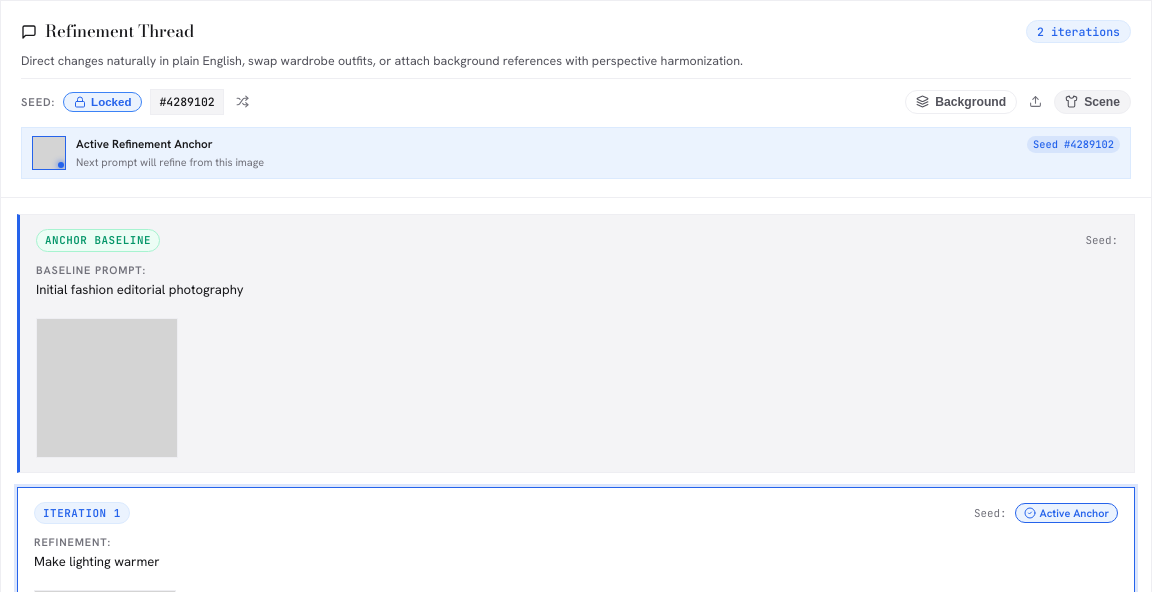
Test: RefinementChat Component › renders background reference button and opens library modal
Click the button with aria-label "Reference Background Library": {"x": 961, "y": 102} [905,90,1017,114]
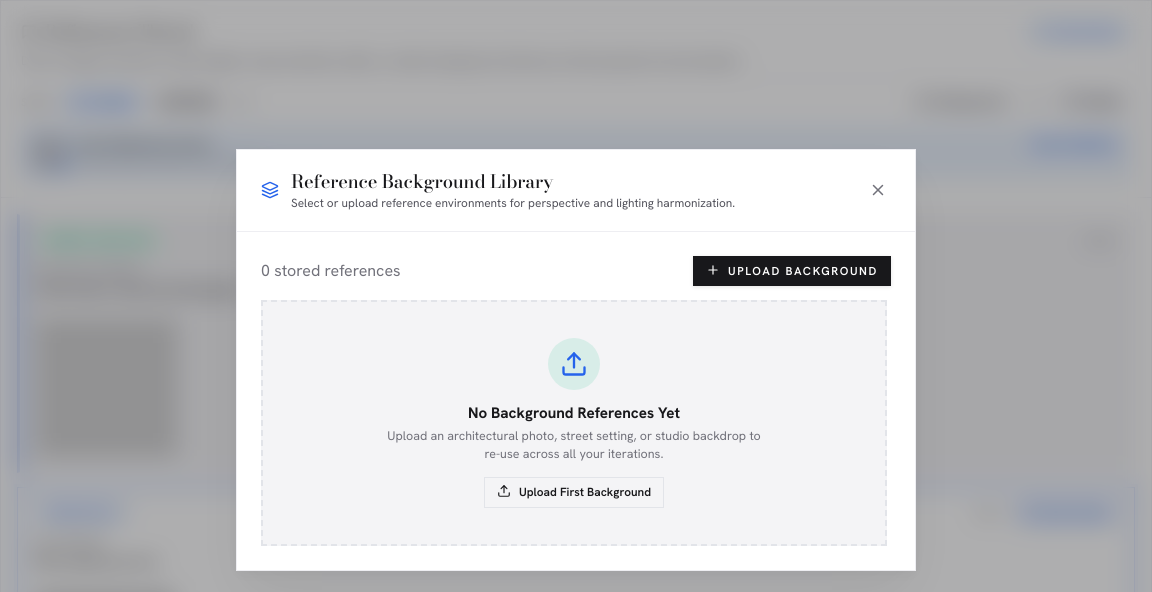
Check: the heading "Reference Background Library" is shown, box [291,167,553,195]
